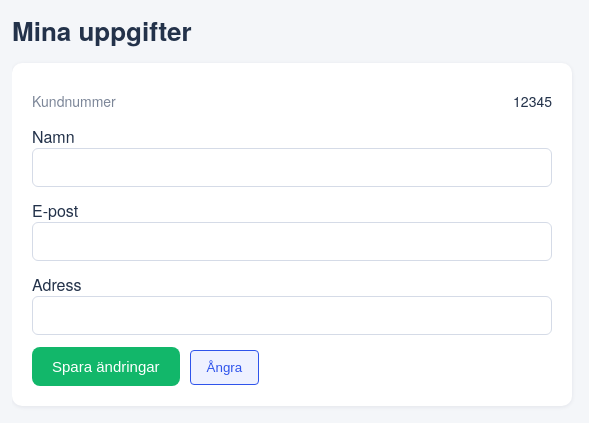
Scenario: ProfileView › återställer ändringar när användaren klickar på Ångra
Type "Ändrat namn" into the field labelled "Namn" at {"x": 292, "y": 168}, box [32,148,552,187]
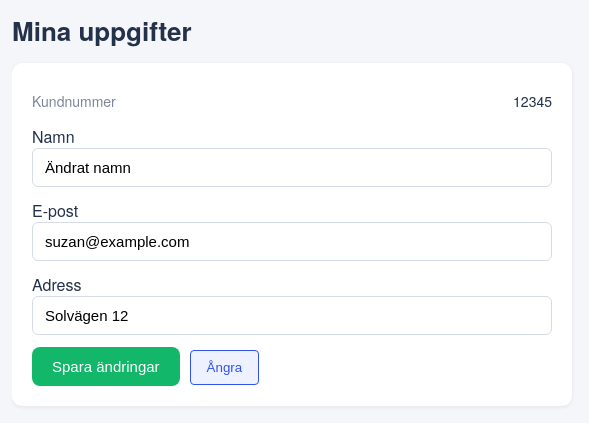
Replace the text in the field labelled "E-post" with "ändrad@example.com" at {"x": 292, "y": 242}, box [32,222,552,261]
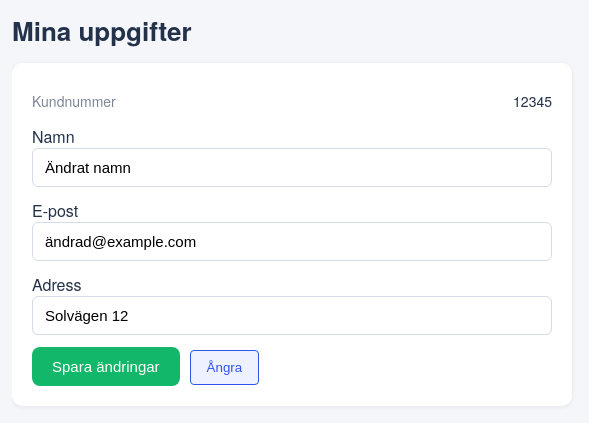
Replace the text in the field labelled "Adress" with "Ändrad adress" at {"x": 292, "y": 316}, box [32,296,552,335]
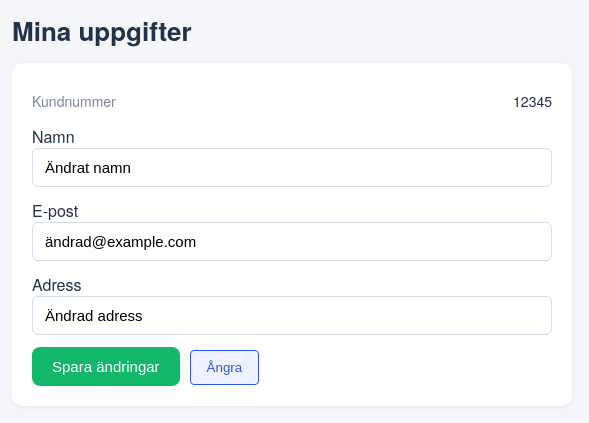
Click the button "Ångra" at {"x": 224, "y": 368}, box [190,350,259,385]
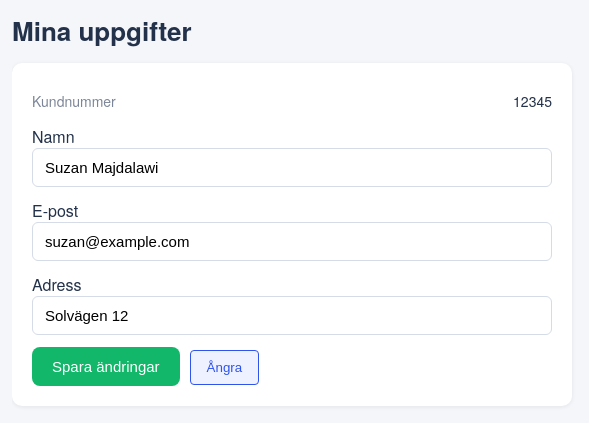
Check: the field labelled "Namn" holds "Suzan Majdalawi", box [32,148,552,187]
Check: the field labelled "E-post" holds "suzan@example.com", box [32,222,552,261]
Check: the field labelled "Adress" holds "Solvägen 12", box [32,296,552,335]
